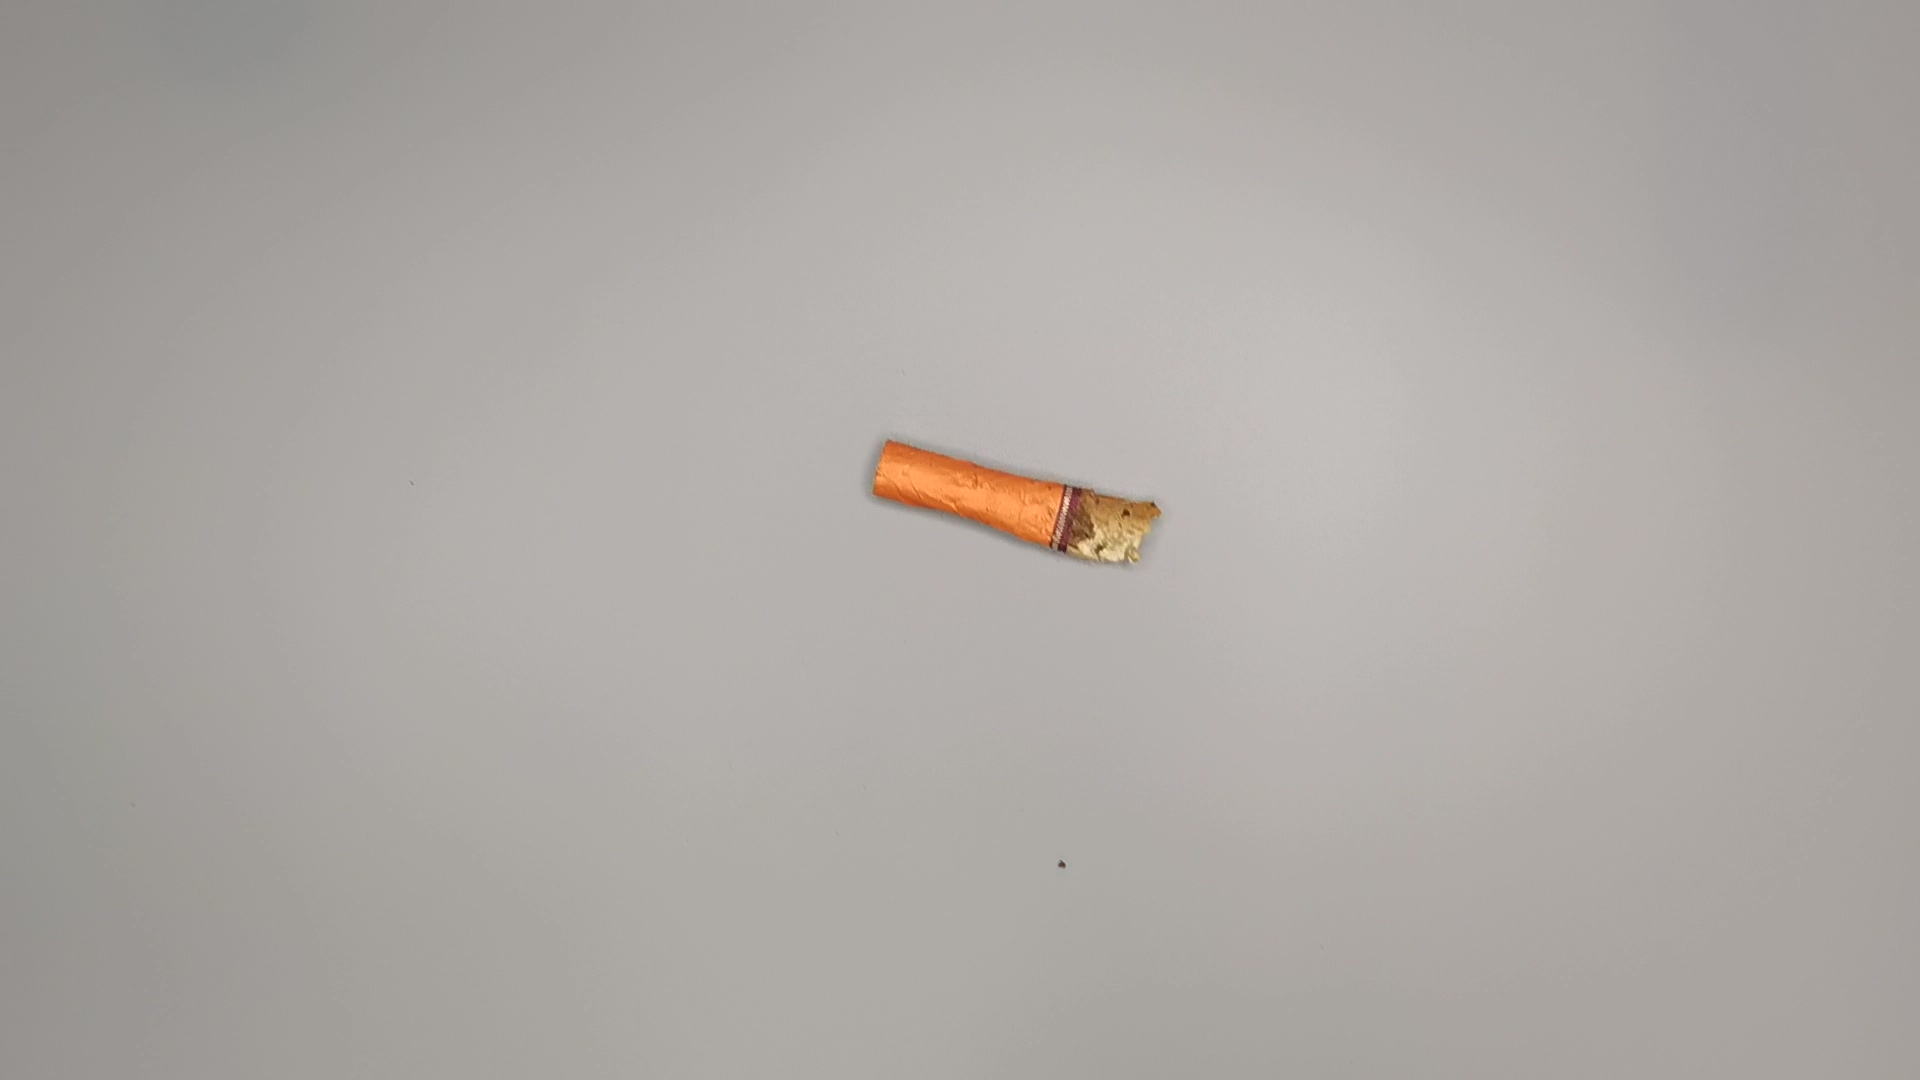cigarette: (864, 438, 1174, 567)
